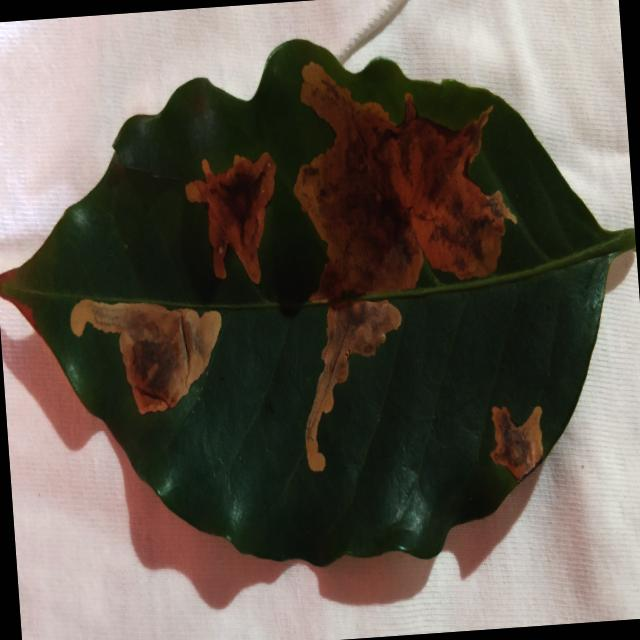KaratDaunKopi: (294, 62, 510, 300), (70, 299, 221, 414), (305, 300, 401, 471), (185, 152, 276, 283), (490, 406, 542, 479)
